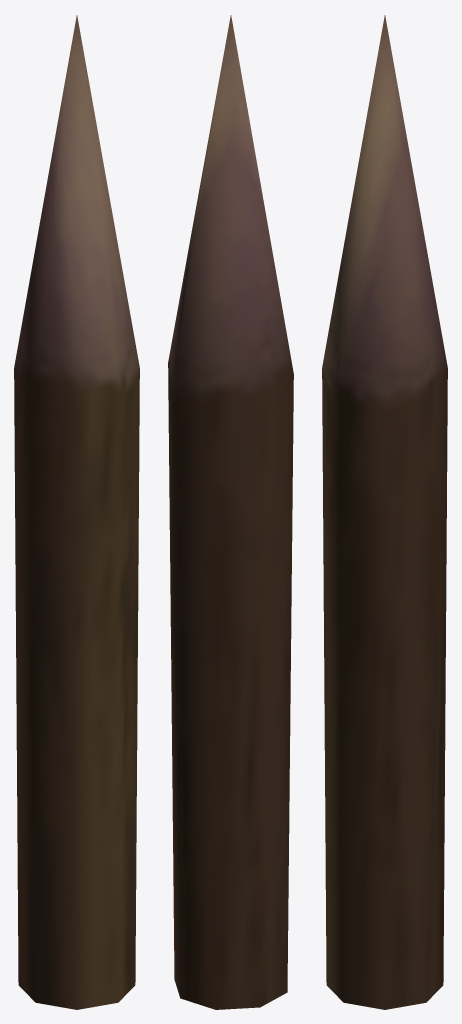
The model's file is WoodFence003.fbx.
3 views of the same model, side by side, from view 1: azimuth 90°, elevation 25°; view 2: azimuth 210°, elevation 25°; view 3: azimuth 270°, elevation 25° (orthographic).
Visible parts, largest first — view 1: woodfence3; view 2: woodfence3; view 3: woodfence3.
Boxes of the visible parts, x1=… form: woodfence3: x1=14, y1=15, x2=139, y2=1009; woodfence3: x1=168, y1=15, x2=293, y2=1009; woodfence3: x1=322, y1=15, x2=447, y2=1009.
Size of the model in its own units: 0.3265 by 2.6 by 0.305.
Materials: 1 (1 with a texture image).
